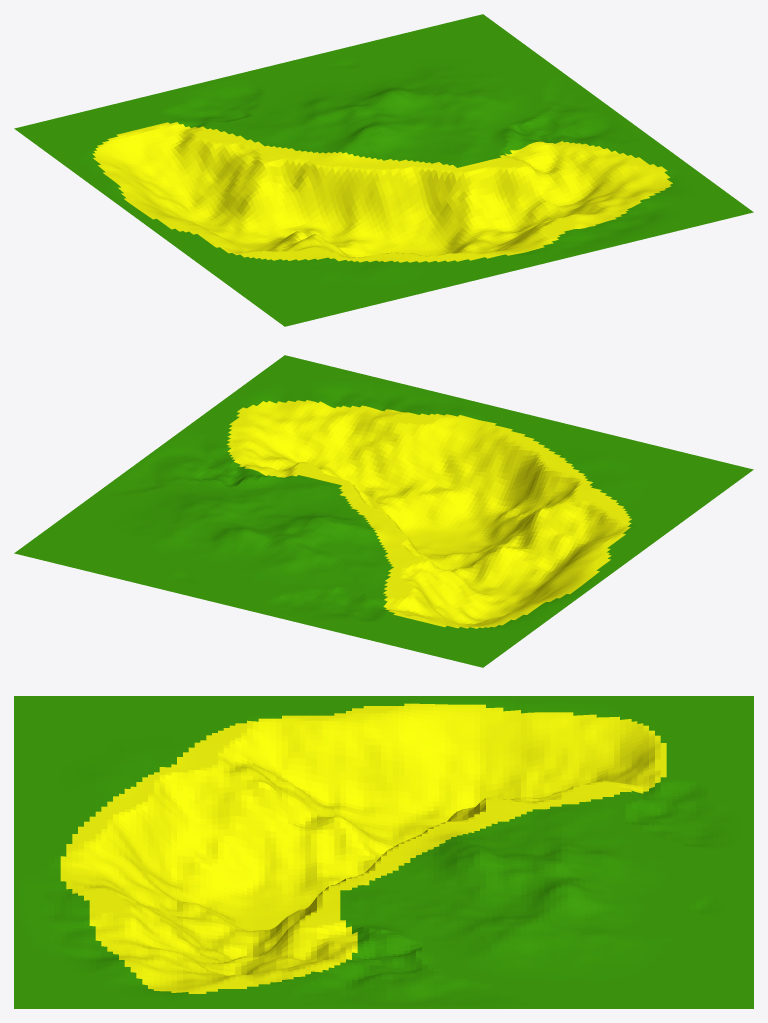
Rendered from GROUND.glb.
The picture shows the model from 3 angles, top to bottom: view 1: azimuth 30°, elevation 25°; view 2: azimuth 150°, elevation 25°; view 3: azimuth 270°, elevation 25°; orthographic projection. The views are drawn at different scales.
Visible parts, largest first — view 1: GROUND; view 2: GROUND; view 3: GROUND.
Part boxes in pixels (x1=…): GROUND: x1=14, y1=14, x2=753, y2=326; GROUND: x1=14, y1=355, x2=753, y2=667; GROUND: x1=14, y1=696, x2=753, y2=1008.
Bounding box in the file's own units: 431 × 58.5 × 431.
